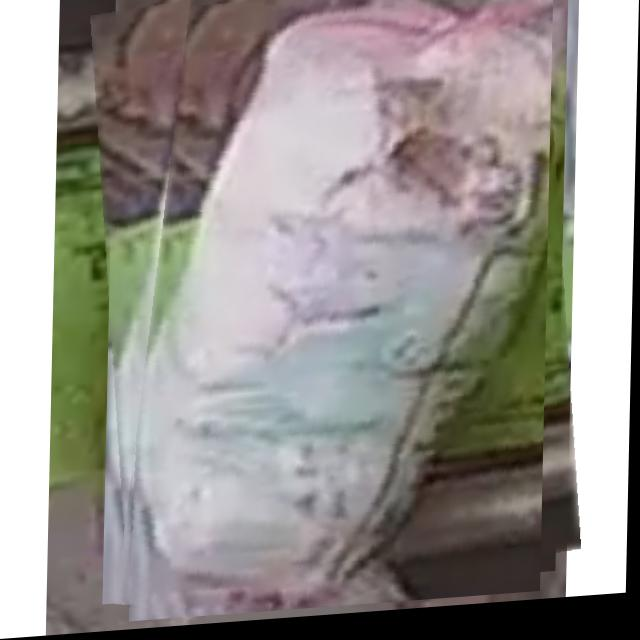other_trashbag: (133, 0, 553, 624)
